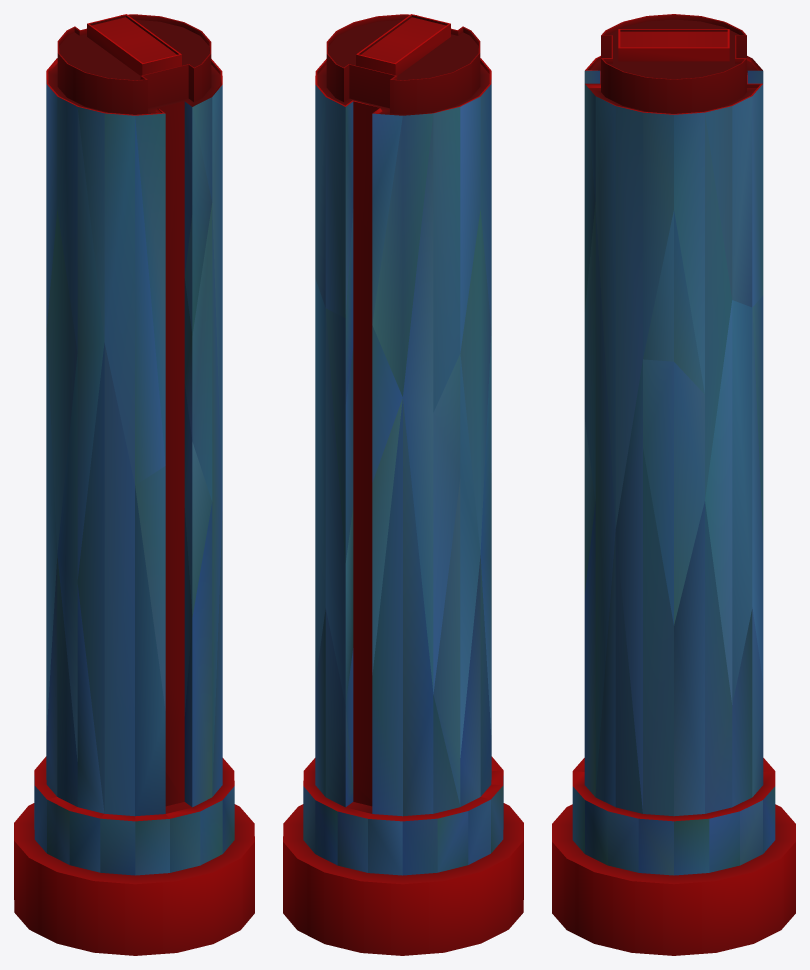
The model's file is buildings-industrial-modernskyscraper_v1.fbx.
3 renders of one model, left to right at view 1: azimuth 30°, elevation 25°; view 2: azimuth 150°, elevation 25°; view 3: azimuth 270°, elevation 25°, orthographic.
Visible parts, largest first — view 1: ModernSkyscraper_v1_windowRefl, ModernSkyscraper_v1_base; view 2: ModernSkyscraper_v1_windowRefl, ModernSkyscraper_v1_base; view 3: ModernSkyscraper_v1_windowRefl, ModernSkyscraper_v1_base.
Part boxes in pixels (x1=…): ModernSkyscraper_v1_windowRefl: x1=34, y1=80, x2=234, y2=875; ModernSkyscraper_v1_base: x1=14, y1=14, x2=254, y2=955; ModernSkyscraper_v1_windowRefl: x1=303, y1=80, x2=503, y2=875; ModernSkyscraper_v1_base: x1=283, y1=14, x2=523, y2=955; ModernSkyscraper_v1_windowRefl: x1=572, y1=70, x2=775, y2=875; ModernSkyscraper_v1_base: x1=552, y1=14, x2=795, y2=955.
Bounding box in the file's own units: 20.98 × 82.3 × 21.01.
